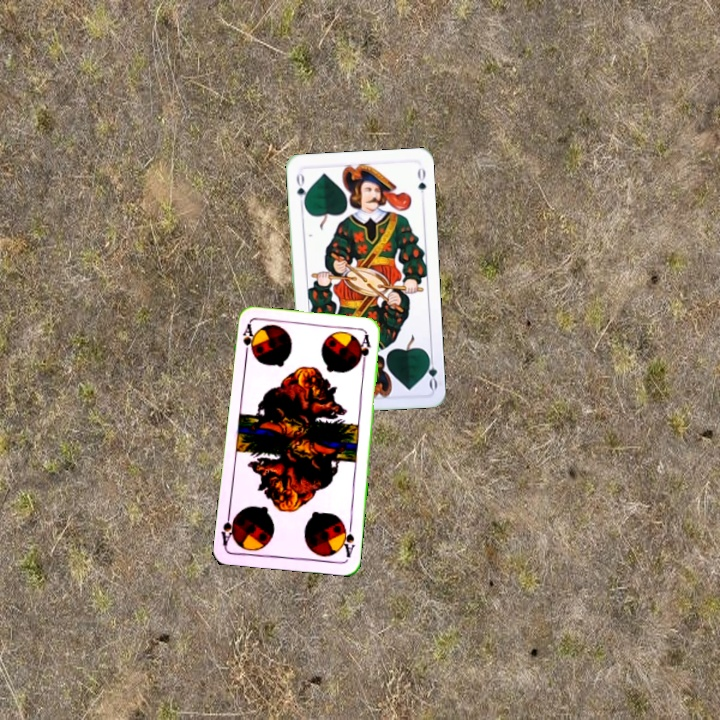GO: (421, 351, 440, 391), (292, 169, 310, 209)
SA: (337, 519, 358, 560), (239, 320, 257, 361)
